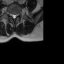CCS_stenosis: (13, 12, 15, 20)
LFS_normal: (17, 11, 18, 18)
LLS_normal: (15, 12, 17, 19)
RFS_normal: (9, 11, 11, 17)
RLS_normal: (11, 12, 13, 19)
